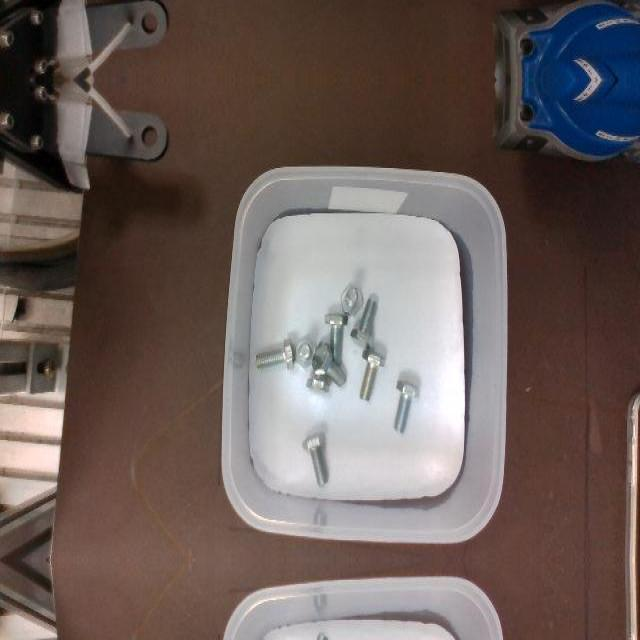screw: (312, 344, 347, 386), (393, 380, 420, 434), (301, 432, 327, 486), (359, 349, 386, 401), (349, 297, 377, 347), (256, 338, 295, 370), (325, 313, 348, 363), (340, 285, 362, 315)
